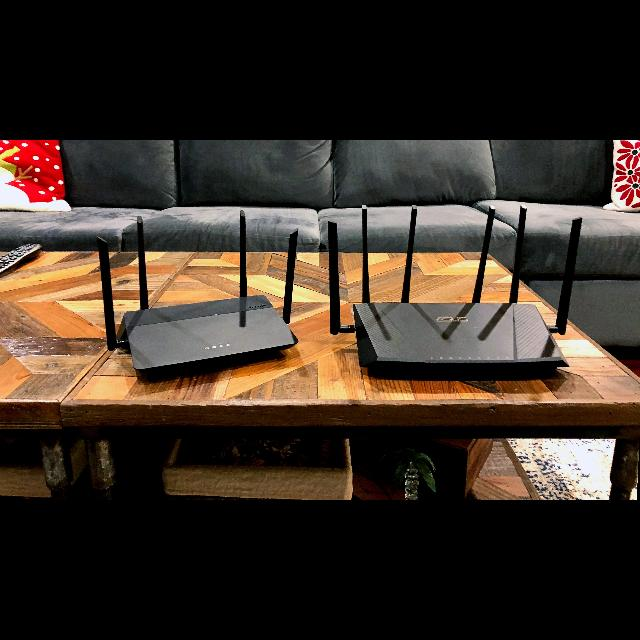Router: (329, 204, 582, 378), (97, 210, 299, 377)
